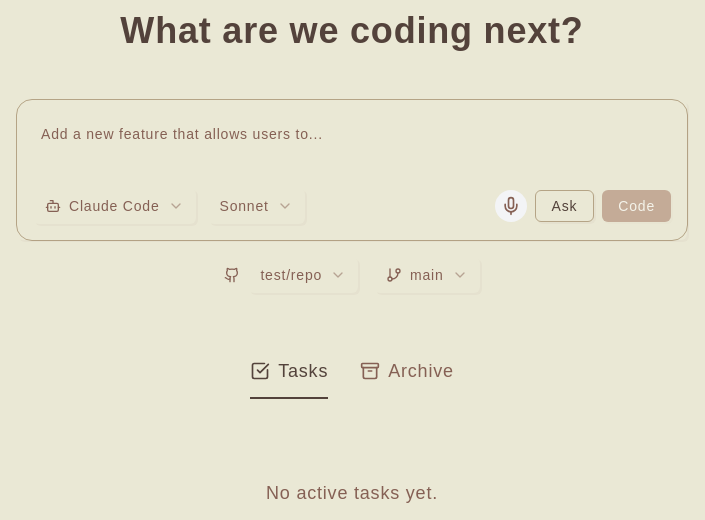
Test: ChatInterface › should show loading state during code generation
In the text box with test id "task-input": (352, 170) [17,100,687,240], type "Create a component"
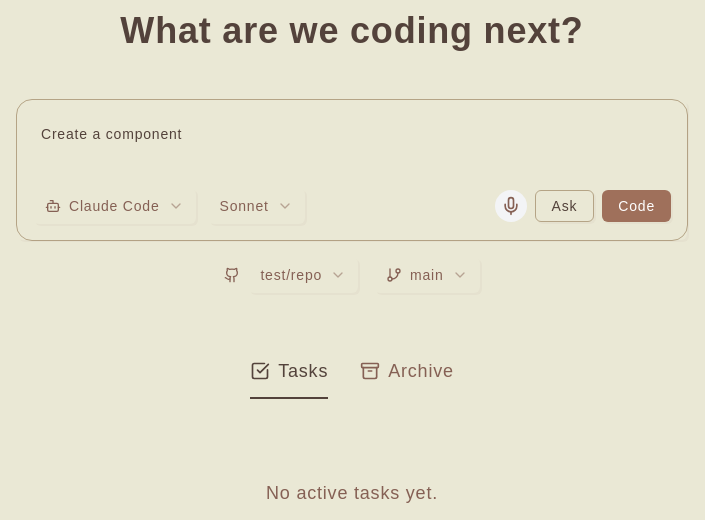
Click the button with test id "code-generation-button": (637, 206) [602,190,671,222]
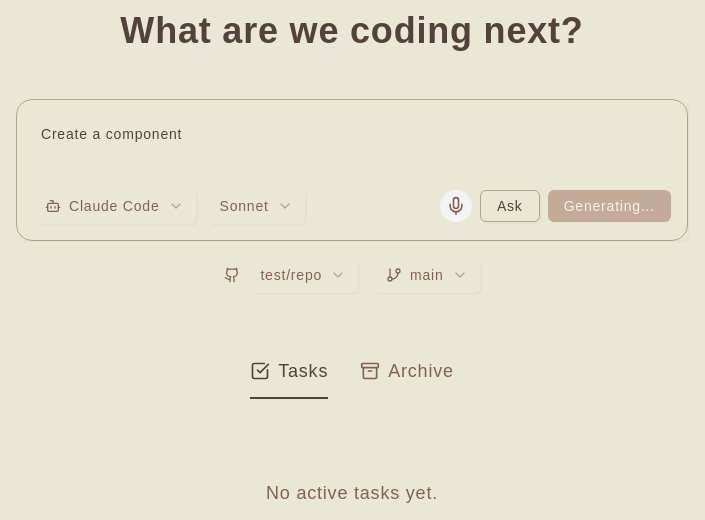
Expected: the button with test id "code-generation-button" reads "Generating...", [548,190,671,222]
Expected: the button with test id "code-generation-button" is disabled, [548,190,671,222]
